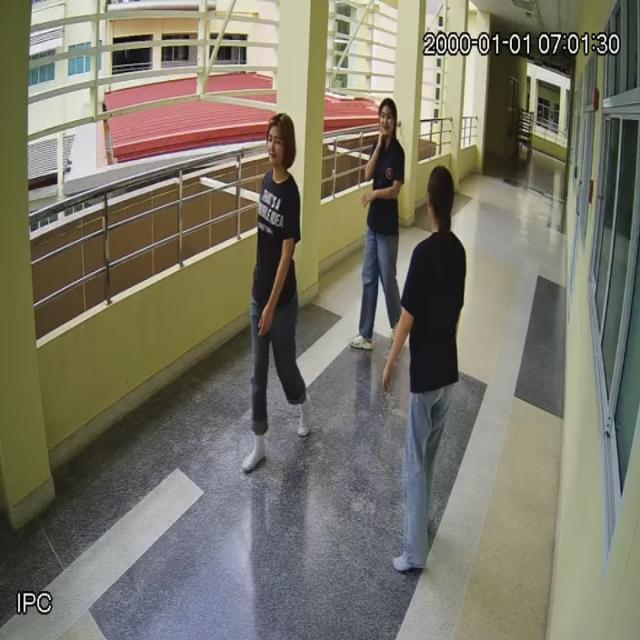normal: (246, 111, 314, 471), (405, 169, 464, 573), (354, 94, 404, 332)
